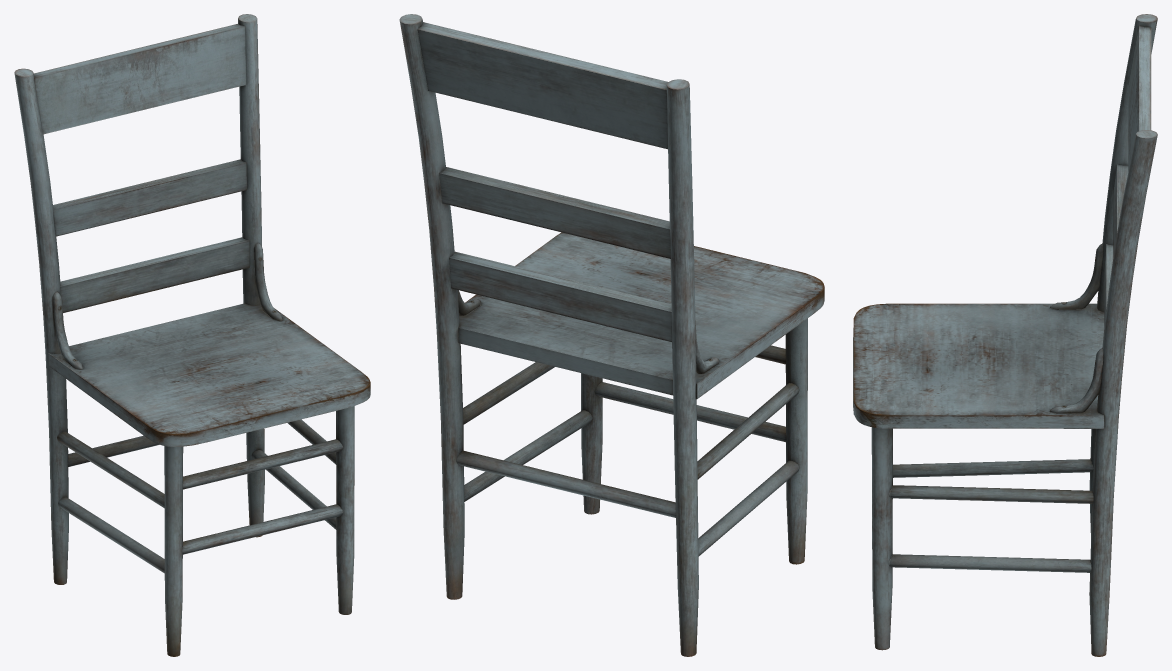
Rendered from painted_wooden_chair_02.glb.
3 renders of one model, left to right at view 1: azimuth 30°, elevation 25°; view 2: azimuth 150°, elevation 25°; view 3: azimuth 270°, elevation 25°, orthographic. The views are drawn at different scales.
Parts seen in each view (by area): view 1: painted_wooden_chair_02; view 2: painted_wooden_chair_02; view 3: painted_wooden_chair_02.
Part boxes in pixels (x1=…): painted_wooden_chair_02: x1=14, y1=14, x2=370, y2=656; painted_wooden_chair_02: x1=399, y1=14, x2=824, y2=656; painted_wooden_chair_02: x1=853, y1=14, x2=1157, y2=656.
Bounding box in the file's own units: 0.6394 × 1.26 × 0.6621.
1 material, 1 textured.
